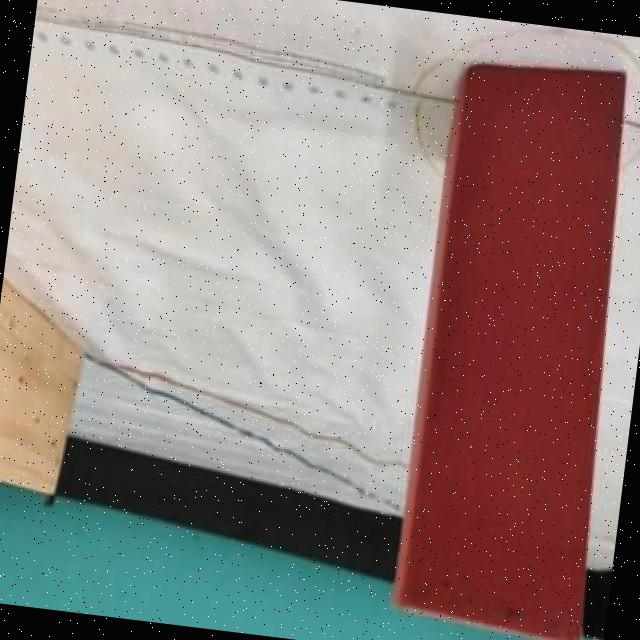redbox: (389, 53, 640, 640)
